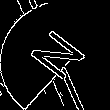N_SE: (20, 24, 90, 86)
